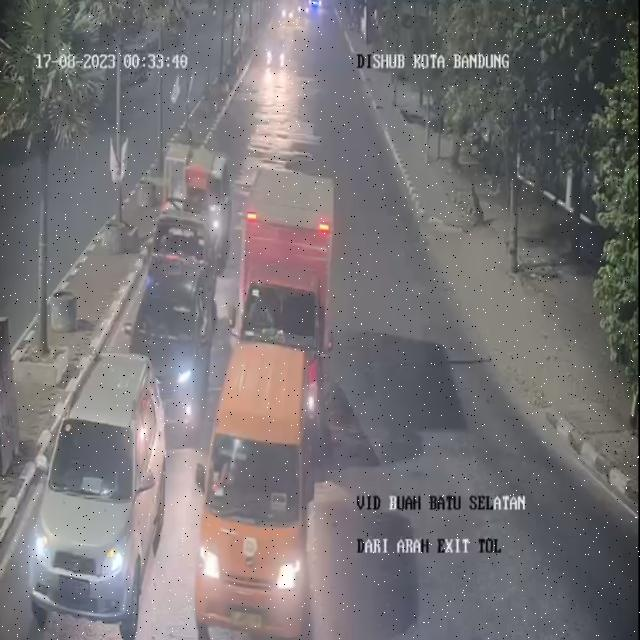cars: (28, 347, 165, 618), (192, 336, 314, 638), (120, 256, 219, 444)
truck: (227, 172, 336, 445), (144, 146, 232, 311)
